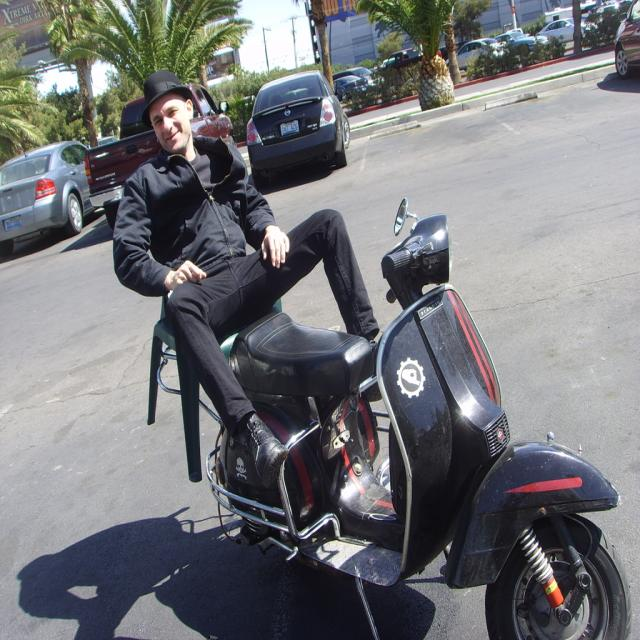car: (234, 66, 347, 181), (0, 127, 91, 264), (454, 37, 510, 83), (535, 13, 600, 50), (609, 0, 639, 80), (333, 69, 370, 99)
